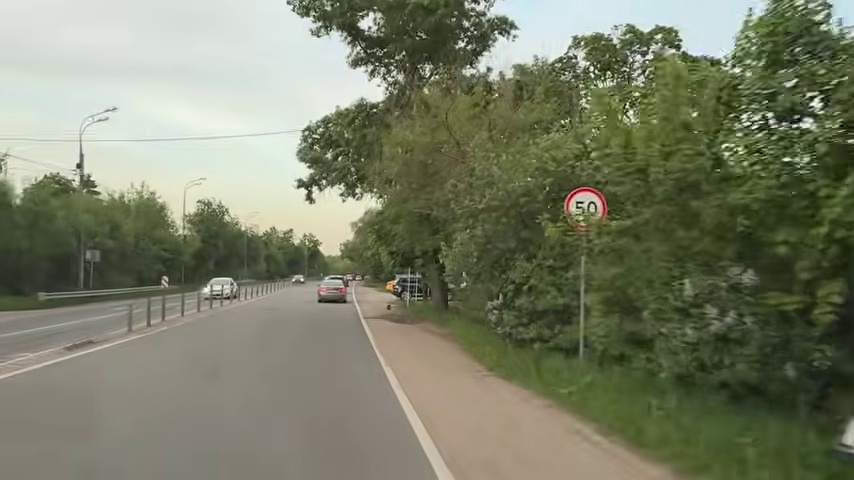apagada: (92, 105, 118, 128)
